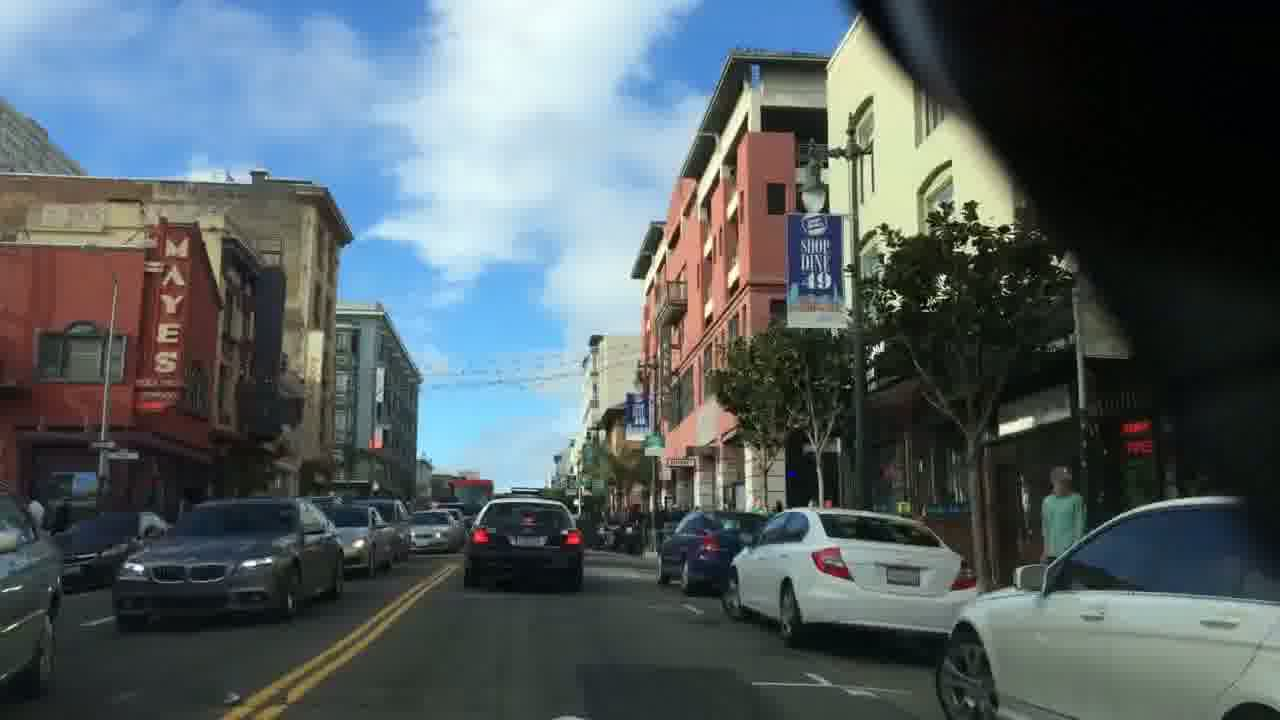car: (935, 493, 1280, 719), (720, 506, 980, 646), (112, 494, 345, 632), (463, 497, 584, 592), (655, 510, 768, 595), (323, 502, 395, 579), (405, 509, 459, 552)
pedestrian: (1039, 462, 1086, 567)
